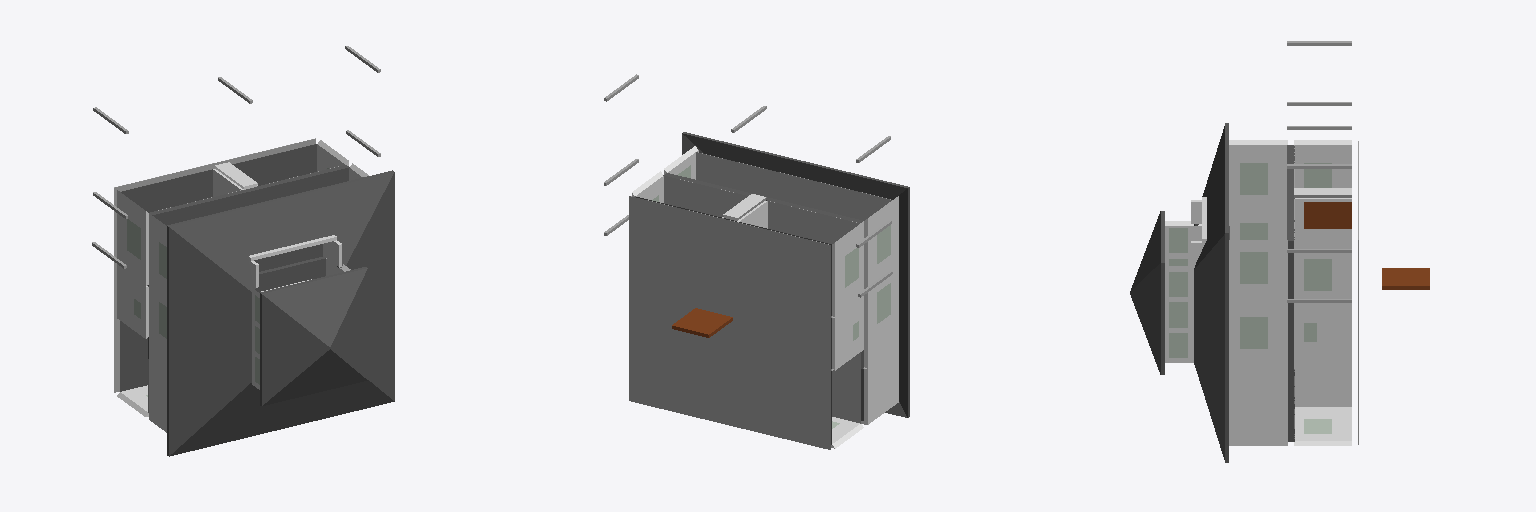
File: beach_house.obj
3 views of the same model, side by side, from view 1: azimuth 30°, elevation 25°; view 2: azimuth 150°, elevation 25°; view 3: azimuth 270°, elevation 25° (orthographic).
Parts seen in each view (by area): view 1: 6/12_Slope_Hip_Roof_-_Clay_Tiles, 6/12_Slope_Hip_Roof_-_Shingles, Hardwood_Floor, 2_x_4_Vinyl_Siding, Suspended_Ceiling_Members_T, 6"_x_6"_Wood_Post, 2_x_4_Wood_Siding, 4, 4"_Concrete_Floor; view 2: Suspended_Ceiling_Members_T, 2_x_4_Vinyl_Siding, 6/12_Slope_Hip_Roof_-_Clay_Tiles, 4, 6"_x_6"_Wood_Post, Hardwood_Floor, 5; view 3: 2_x_4_Vinyl_Siding, 6/12_Slope_Hip_Roof_-_Clay_Tiles, 4, 6/12_Slope_Hip_Roof_-_Shingles, 2_x_4_Gypsum_Wallboard, 3, Hardwood_Floor, 6"_x_6"_Wood_Post, 48"_Bi-Fold_Door, 6, 2_x_4_Wood_Siding.
Boxes of the visible parts, box(x1,y1,x2,y2) form: 6/12_Slope_Hip_Roof_-_Clay_Tiles: box(167, 170, 394, 456); 6/12_Slope_Hip_Roof_-_Shingles: box(260, 267, 367, 405); Hardwood_Floor: box(120, 144, 349, 391); 2_x_4_Vinyl_Siding: box(117, 140, 368, 432); Suspended_Ceiling_Members_T: box(114, 138, 338, 412); 6"_x_6"_Wood_Post: box(92, 46, 380, 268); 2_x_4_Wood_Siding: box(248, 235, 341, 287); 4: box(127, 168, 328, 396); 4"_Concrete_Floor: box(254, 244, 322, 271); Suspended_Ceiling_Members_T: box(629, 152, 891, 449); 2_x_4_Vinyl_Siding: box(632, 146, 898, 448); 6/12_Slope_Hip_Roof_-_Clay_Tiles: box(682, 132, 909, 417); 4: box(652, 165, 890, 428); 6"_x_6"_Wood_Post: box(604, 74, 892, 297); Hardwood_Floor: box(635, 173, 863, 444); 5: box(678, 310, 732, 337); 2_x_4_Vinyl_Siding: box(1165, 140, 1351, 445); 6/12_Slope_Hip_Roof_-_Clay_Tiles: box(1194, 123, 1228, 462); 4: box(1240, 163, 1331, 433); 6/12_Slope_Hip_Roof_-_Shingles: box(1130, 211, 1164, 374); 2_x_4_Gypsum_Wallboard: box(1295, 198, 1351, 395); 3: box(1169, 228, 1187, 357); Hardwood_Floor: box(1229, 145, 1294, 441); 6"_x_6"_Wood_Post: box(1287, 41, 1351, 302); 48"_Bi-Fold_Door: box(1304, 202, 1351, 228); 6: box(1382, 268, 1429, 289); 2_x_4_Wood_Siding: box(1191, 197, 1206, 264).
Bounding box in the file's own units: 12.7 × 14.42 × 12.84.